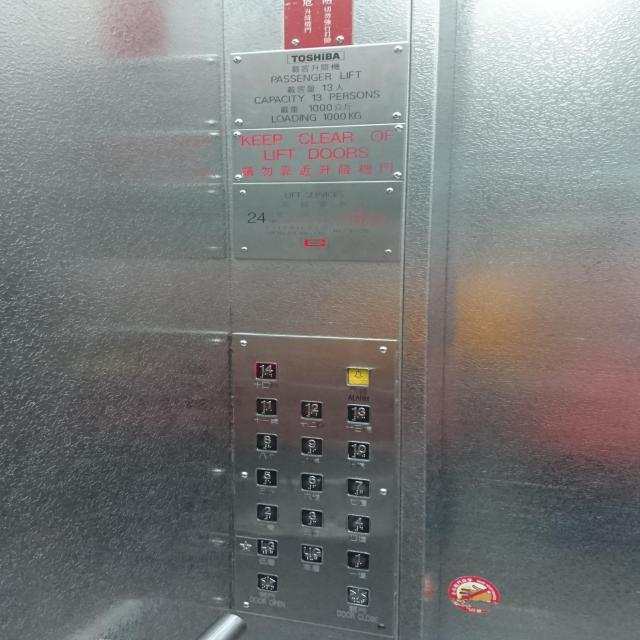1: (346, 548, 371, 573)
10: (346, 440, 371, 462)
11: (255, 396, 278, 418)
12: (300, 400, 322, 420)
13: (346, 402, 370, 425)
14: (254, 360, 278, 381)
2: (256, 502, 279, 523)
3: (300, 508, 324, 529)
4: (346, 513, 370, 535)
5: (253, 467, 279, 489)
6: (300, 472, 324, 494)
7: (346, 476, 371, 499)
8: (256, 432, 277, 453)
9: (300, 435, 324, 458)
LG: (256, 537, 278, 560)
UG: (299, 543, 324, 566)
alarm: (346, 365, 371, 387)
close: (346, 584, 370, 607)
open: (256, 571, 279, 592)
